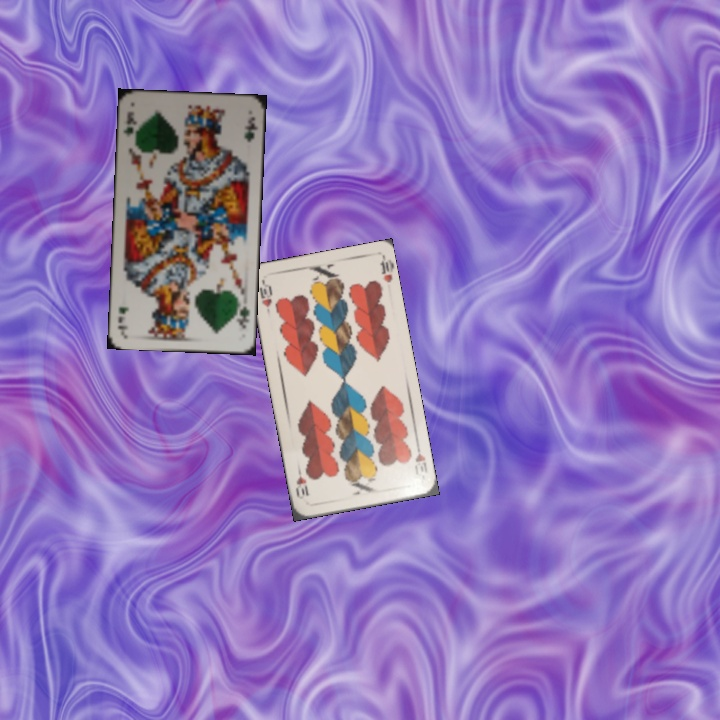GK: (120, 107, 140, 140), (232, 301, 252, 330)
H10: (255, 277, 275, 318), (410, 440, 430, 477)
